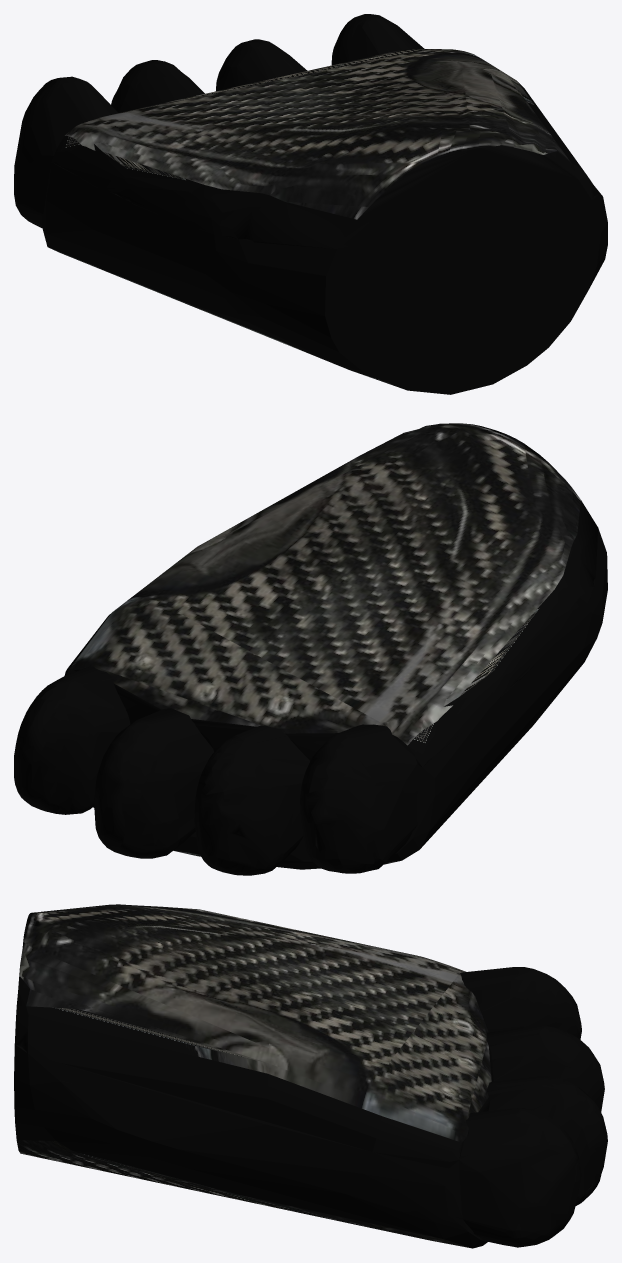
Rendered from FB_palm_ref_MIR_lp.obj.
3 views of the same model, one above another, from view 1: azimuth 30°, elevation 25°; view 2: azimuth 150°, elevation 25°; view 3: azimuth 270°, elevation 25° (orthographic). The views are drawn at different scales.
Visible parts, largest first — view 1: FB_palm_ref_MIR; view 2: FB_palm_ref_MIR; view 3: FB_palm_ref_MIR.
Part boxes in pixels (x1,y1,x2,y2): FB_palm_ref_MIR: (14, 14, 607, 394); FB_palm_ref_MIR: (14, 423, 607, 875); FB_palm_ref_MIR: (14, 904, 607, 1248).
Bounding box in the file's own units: 0.0813 × 0.053 × 0.1106.
Materials: 1 (1 with a texture image).
